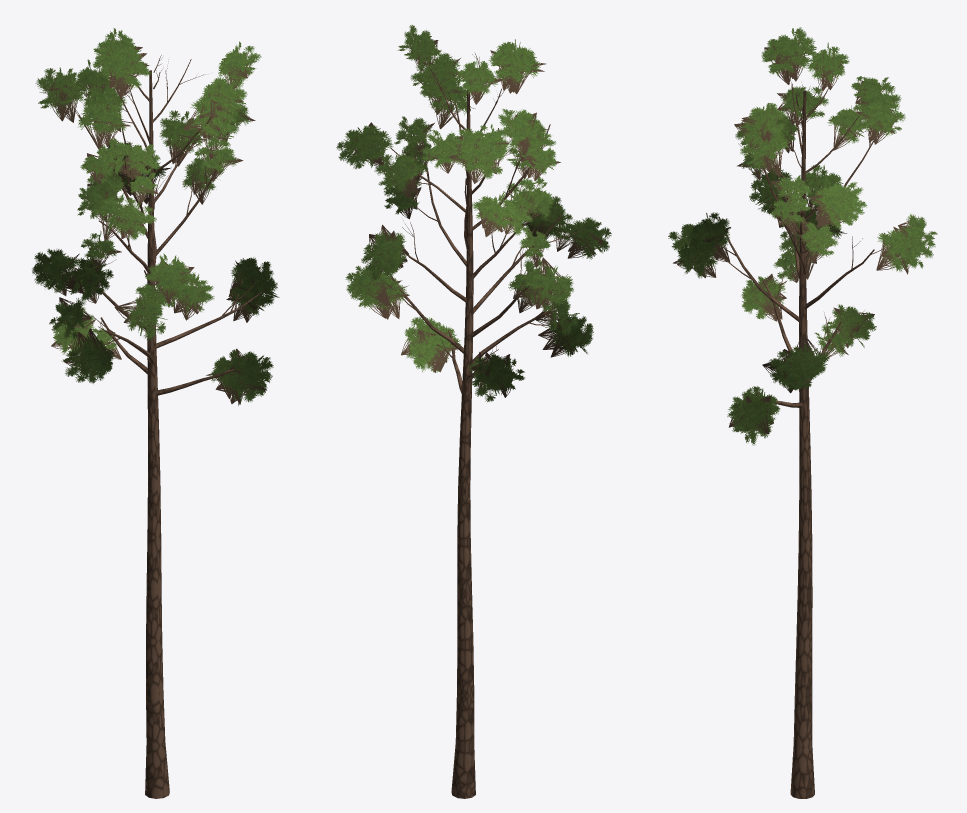
The model's file is veg_loblolly_pine_a_mobile.fbx.
3 views of the same model, side by side, from view 1: azimuth 30°, elevation 25°; view 2: azimuth 150°, elevation 25°; view 3: azimuth 270°, elevation 25° (orthographic). The views are drawn at different scales.
Parts seen in each view (by area): view 1: veg_loblolly_pine_a_mobile_LOD0; view 2: veg_loblolly_pine_a_mobile_LOD0; view 3: veg_loblolly_pine_a_mobile_LOD0.
Part boxes in pixels (x1,y1,x2,y2): veg_loblolly_pine_a_mobile_LOD0: (32, 28, 279, 798); veg_loblolly_pine_a_mobile_LOD0: (336, 25, 611, 798); veg_loblolly_pine_a_mobile_LOD0: (668, 27, 937, 798).
Size of what is drawn, in the model's own units: 10.54 by 30.45 by 10.92.
2 materials, 2 textured.
